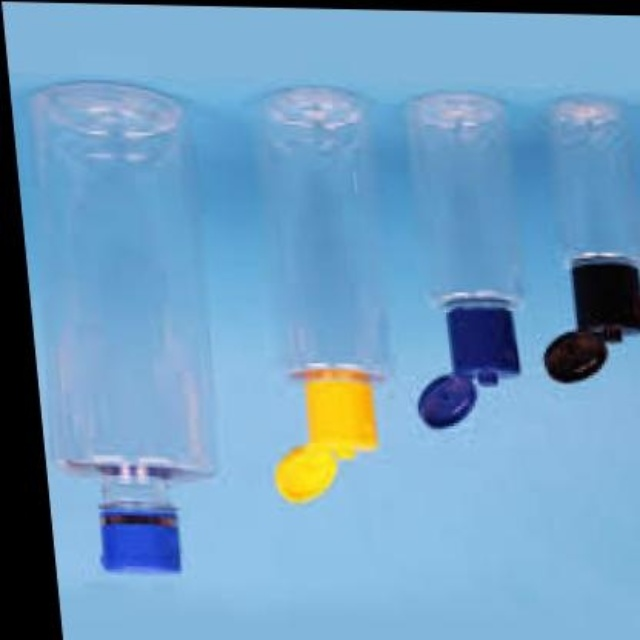trash: (31, 82, 211, 571), (263, 86, 383, 502), (409, 92, 518, 426)
